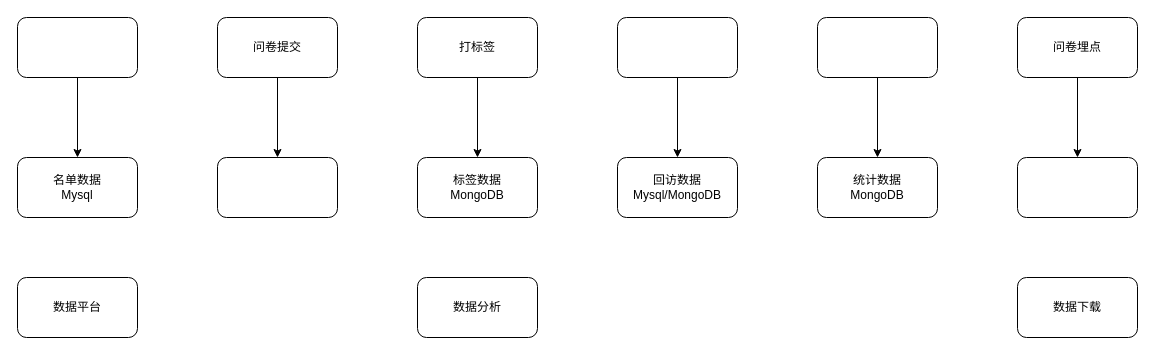
This 1155x355 diagram has some shape labels left out. The centre of each missing label's shape, as x and y in pixels:
回访: the point at 677,47
埋点数据 (未计划): the point at 1077,187
答案数据 Mysql/MongoDB: the point at 277,187
运行状态: the point at 877,47
问卷推送: the point at 77,47
